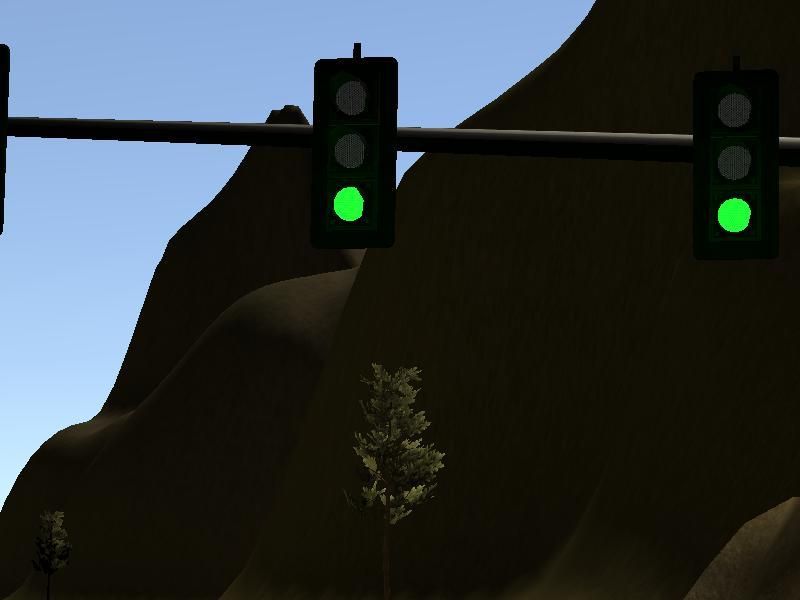Green: (316, 63, 394, 240), (692, 80, 770, 245)
